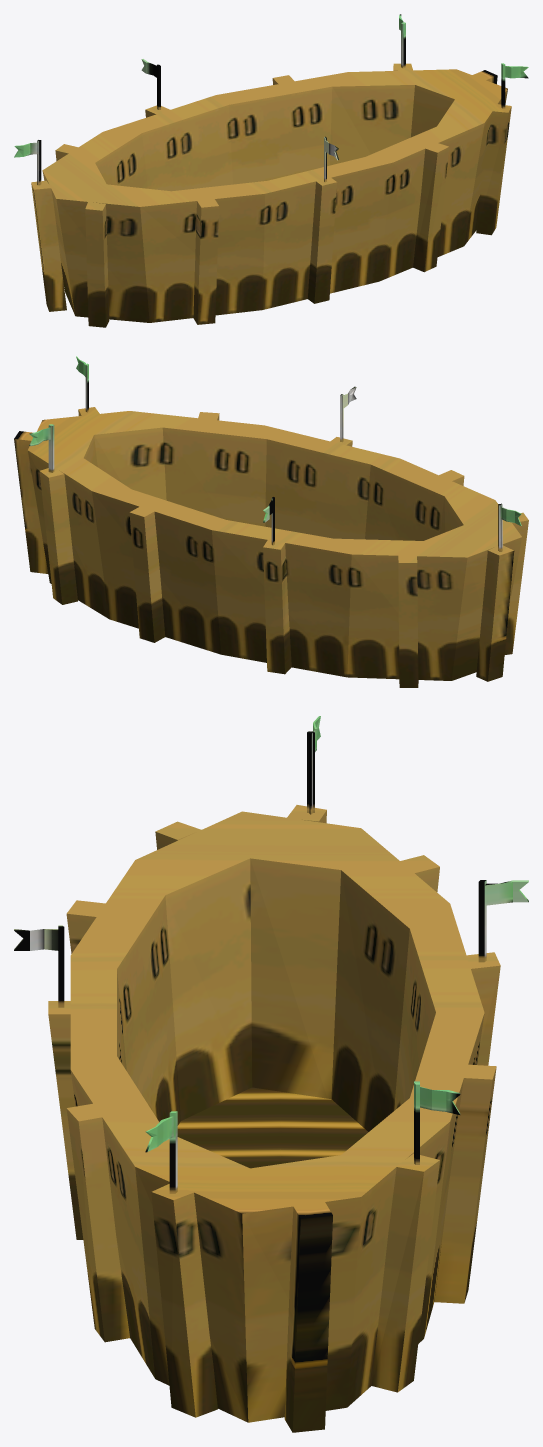
The model's file is Stadium.glb.
3 renders of one model, top to bottom at view 1: azimuth 30°, elevation 25°; view 2: azimuth 150°, elevation 25°; view 3: azimuth 270°, elevation 25°, orthographic. The views are drawn at different scales.
Parts seen in each view (by area): view 1: Stadium; view 2: Stadium; view 3: Stadium.
Part boxes in pixels (bbox=[...]): Stadium: bbox=[14, 14, 528, 327]; Stadium: bbox=[14, 356, 528, 687]; Stadium: bbox=[14, 716, 528, 1432].
Size of the model in its own units: 206 by 68.98 by 105.
1 material, 1 textured.
